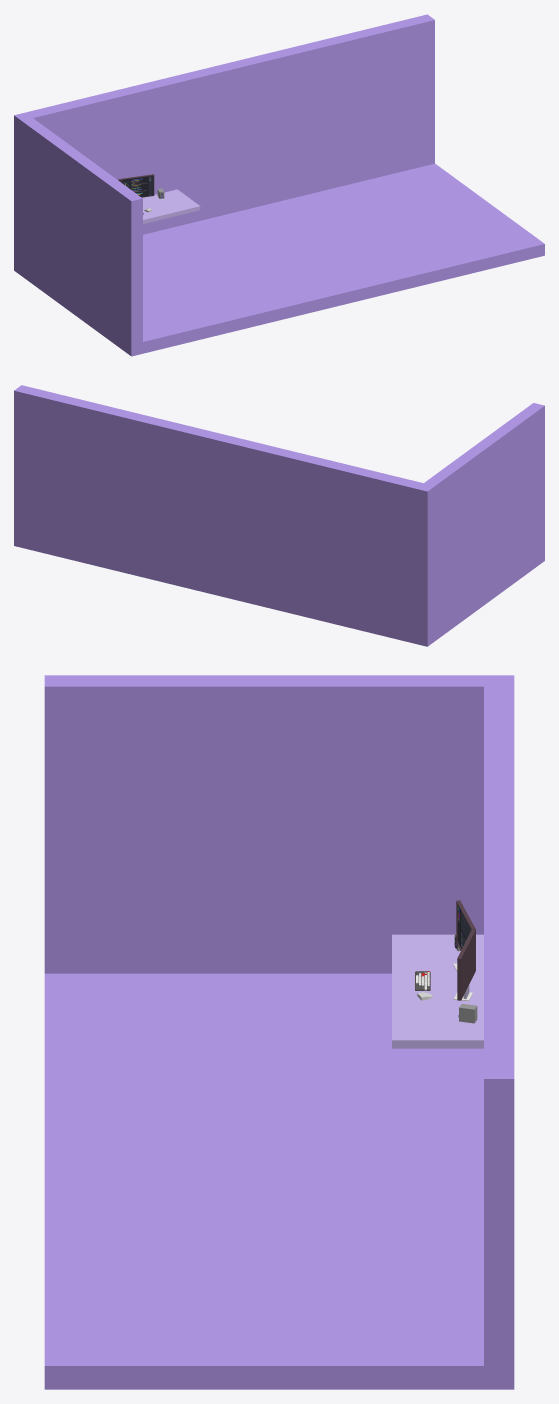
The model's file is my_room.glb.
3 renders of one model, top to bottom at view 1: azimuth 30°, elevation 25°; view 2: azimuth 150°, elevation 25°; view 3: azimuth 270°, elevation 25°, orthographic. The views are drawn at different scales.
Visible parts, largest first — view 1: Plane, Plane.001, Plane.002; view 2: Plane; view 3: Plane, Plane.001, Plane.002.
Part boxes in pixels (x1,y1,x2,y2): Plane: (14,14,544,356); Plane.001: (142,189,200,223); Plane.002: (120,174,154,197); Plane: (14,385,544,646); Plane: (44,675,514,1389); Plane.001: (392,934,483,1048); Plane.002: (457,929,475,1000).
Bounding box in the file's own units: 17.27 × 6.2 × 8.5.
8 materials, 4 textured.
